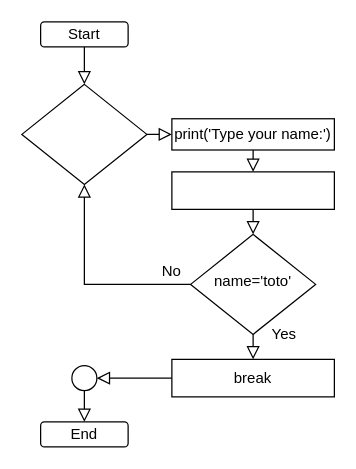
Some shapes in this 356 by 469 pixel diagram are drawn without their labels. The shapes that lost their labels are listed below. From the top down, each one's centre as x and y in pixels, then its label:
the point at 84,133: True?
the point at 252,190: name=input()
